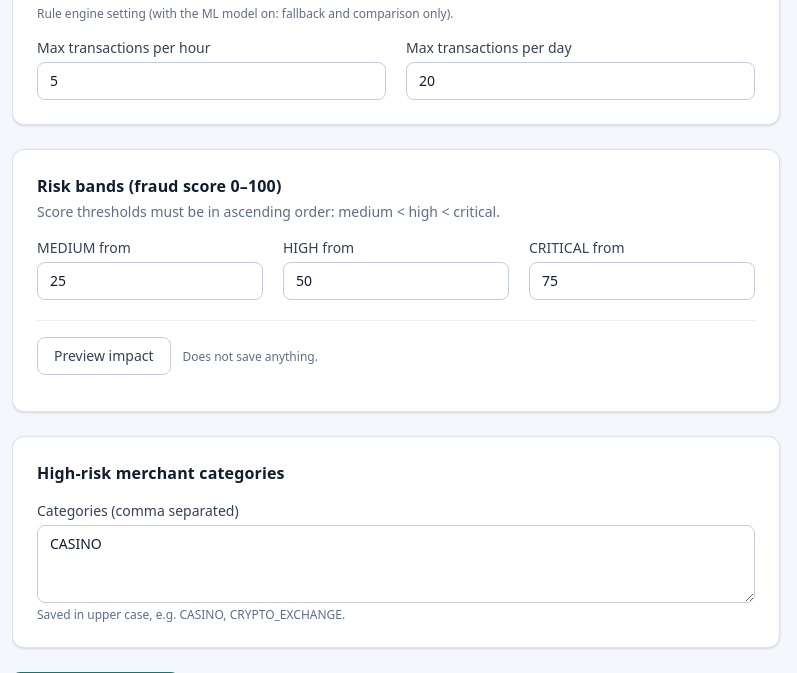
Test: B-07 threshold preview › shows the server message when the preview fails
The width and height of the screenshot is (797, 673).
(page scrolled)
Expected: the number field labelled "MEDIUM from" is shown, [37,262,263,300]
Click the button "Preview impact" at x=104, y=356, box [37,337,170,375]
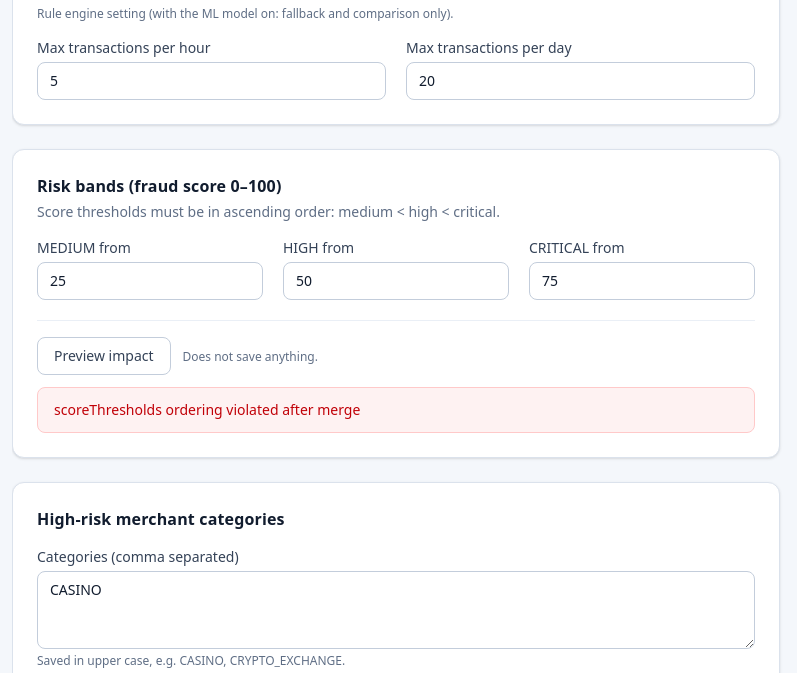
Expected: the message shows "ordering violated", [54,400,360,419]
